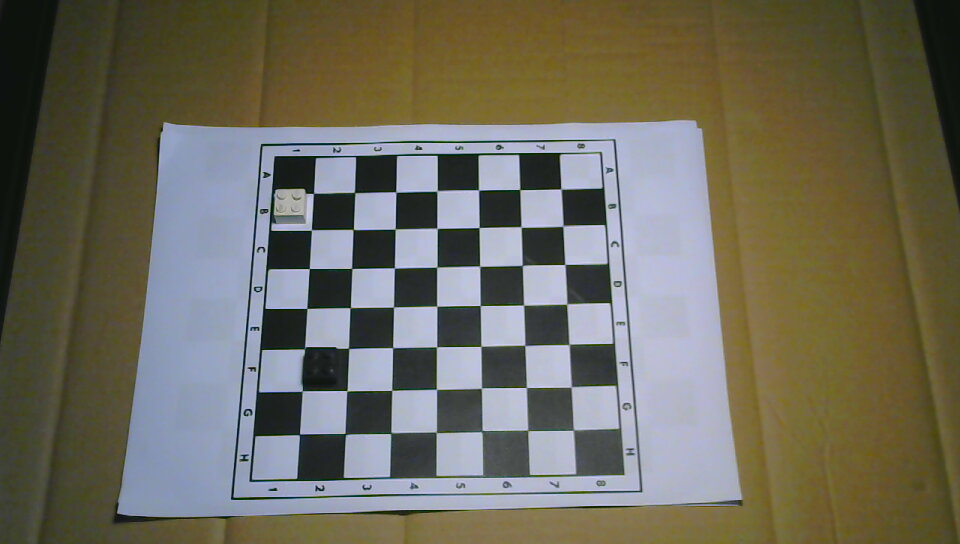bp: (303, 346, 339, 384)
wp: (271, 187, 307, 225)
